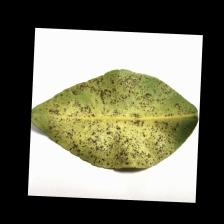canker: (64, 97, 161, 159)
